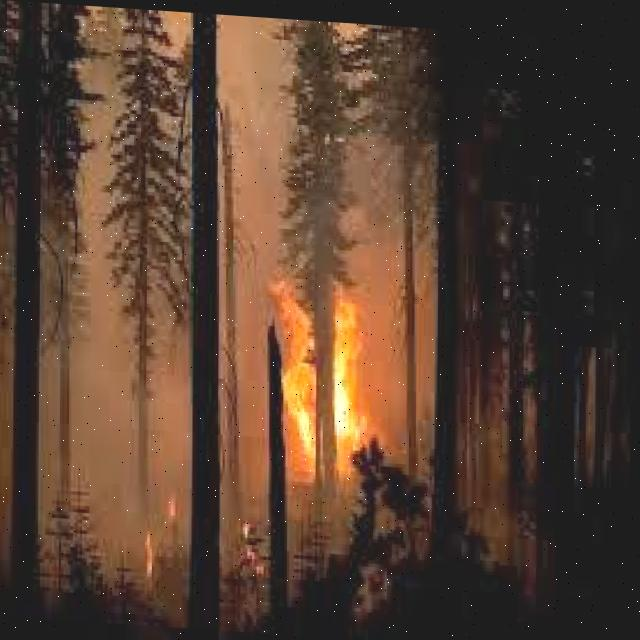smoke: (0, 0, 438, 625)
